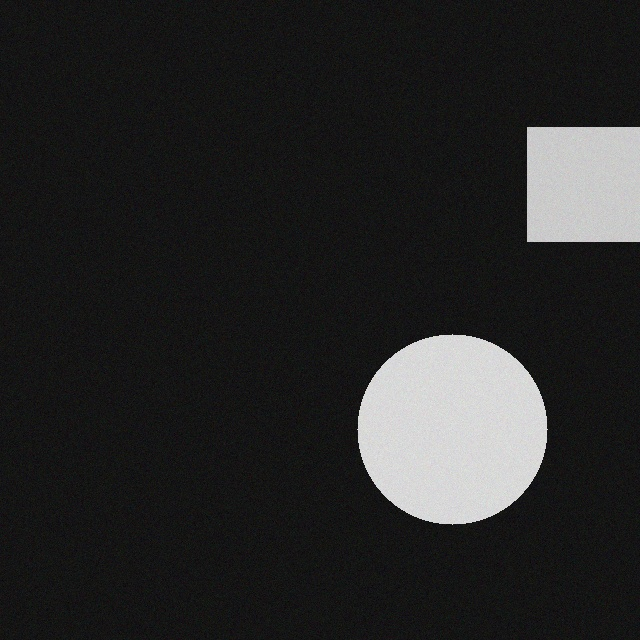circle: (350, 346, 540, 536)
square: (520, 139, 634, 253)
